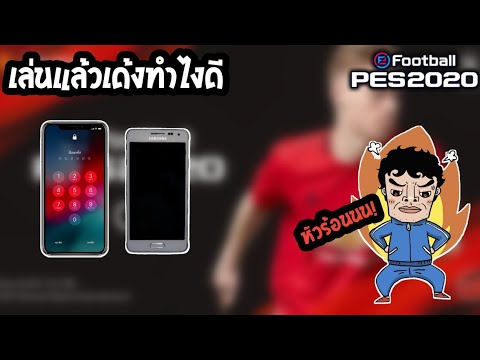Phone: (39, 118, 111, 260), (122, 125, 192, 258)
